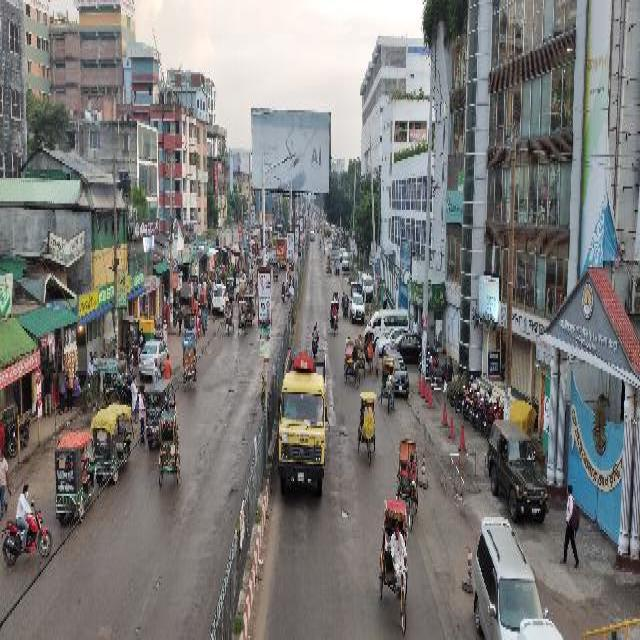ambulance: (362, 270, 372, 298)
army vehicle: (488, 419, 548, 516)
auto rickshaw: (54, 429, 96, 518), (94, 399, 132, 488), (146, 375, 174, 445), (243, 293, 254, 322), (273, 258, 279, 276), (334, 254, 340, 272), (316, 225, 318, 231)
bicycle: (96, 381, 118, 407), (318, 238, 320, 245), (324, 244, 324, 252)
bus: (276, 235, 286, 265), (271, 231, 281, 246)
car: (473, 508, 542, 634), (384, 331, 428, 360), (138, 337, 168, 375), (384, 348, 408, 394), (374, 324, 410, 350), (253, 251, 267, 262), (310, 233, 314, 240), (310, 228, 314, 232), (310, 220, 312, 223)
motorbike: (1, 510, 51, 560), (7, 418, 31, 453), (447, 379, 469, 405), (482, 411, 502, 439), (472, 397, 492, 423), (113, 372, 131, 399), (453, 386, 472, 411), (462, 391, 483, 412), (428, 361, 446, 382), (419, 358, 439, 375), (418, 353, 438, 368), (311, 321, 319, 353), (127, 342, 139, 362), (281, 278, 285, 298), (314, 225, 314, 231)
pickup: (350, 278, 364, 320), (331, 236, 335, 247)
rickshaw: (378, 494, 409, 629), (398, 432, 419, 528), (157, 409, 180, 483), (358, 389, 376, 461), (342, 338, 360, 383), (182, 340, 196, 389), (382, 358, 394, 413), (224, 299, 233, 333), (356, 334, 364, 370), (238, 300, 246, 332), (330, 299, 338, 328), (238, 278, 244, 294), (326, 258, 332, 272), (334, 288, 338, 305), (326, 252, 330, 269)
three wheelers -CNG-: (226, 276, 234, 296)
truck: (280, 339, 324, 494), (323, 220, 329, 236)
van: (364, 306, 408, 347), (212, 282, 228, 311), (342, 250, 348, 267), (356, 268, 362, 283), (339, 246, 345, 258), (331, 228, 334, 236)
